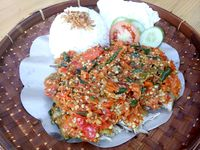ayam_geprek: (47, 43, 174, 141)
